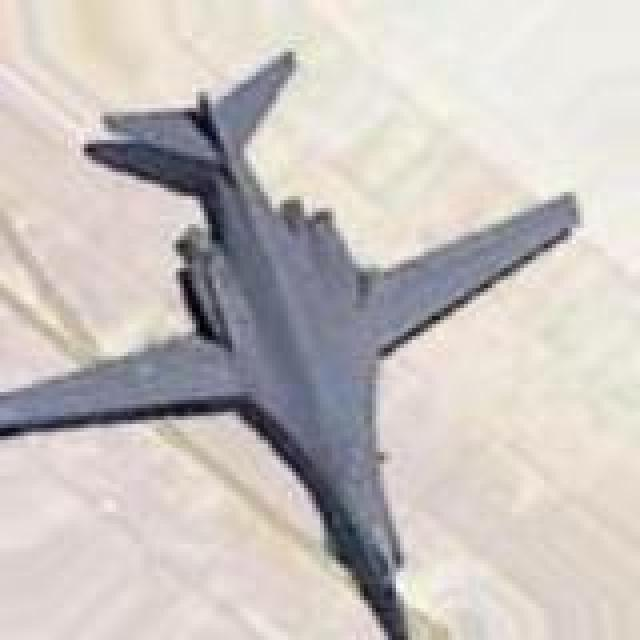B-1_TopDown: (0, 44, 584, 636)
